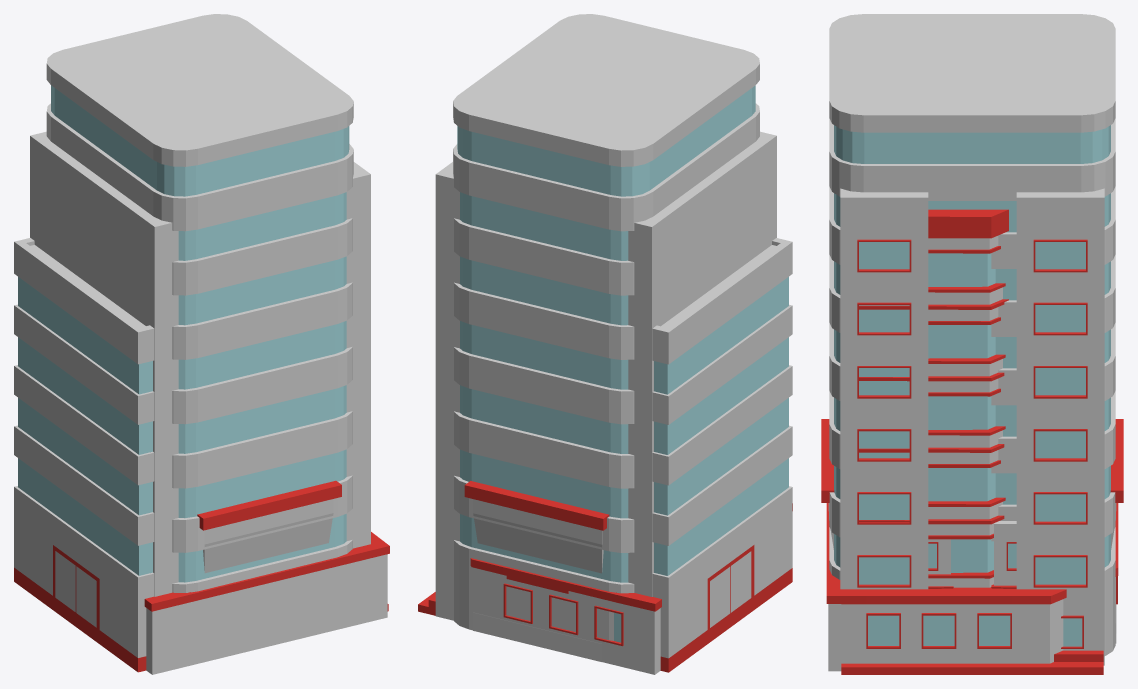
The model's file is quarter.glb.
The picture shows the model from 3 angles, left to right: view 1: azimuth 30°, elevation 25°; view 2: azimuth 150°, elevation 25°; view 3: azimuth 270°, elevation 25°; orthographic projection. The views are drawn at different scales.
Visible parts, largest first — view 1: Building 87_White_0, Building 87_Blue_0, Building 95_White_0, Building 83_White_0, Building 83_Blue_0, Building 53_White_0, Building 50_White_0, Building 53_Red_0, Building 83_Red_0, Building 50_Red_0, Building 88_White_0; view 2: Building 87_White_0, Building 87_Blue_0, Building 95_White_0, Building 83_White_0, Building 83_Blue_0, Building 50_White_0, Building 53_White_0, Building 53_Red_0, Building 83_Red_0, Building 50_Red_0, Building 88_White_0; view 3: Building 95_White_0, Building 87_White_0, Building 95_Blue_0, Building 87_Blue_0, Building 53_White_0, Building 94_Blue_0, Building 94_Red_0, Building 94_White_0, Building 95_Red_0, Building 53_Red_0, Building 88_White_0, Building 83_Red_0 (+5 smaller).
Part boxes in pixels (left/top/right/bottom): Building 87_White_0: left=46, top=14, right=353, bottom=592; Building 87_Blue_0: left=51, top=85, right=349, bottom=582; Building 95_White_0: left=30, top=131, right=370, bottom=596; Building 83_White_0: left=14, top=238, right=154, bottom=657; Building 83_Blue_0: left=18, top=277, right=152, bottom=575; Building 53_White_0: left=146, top=554, right=387, bottom=674; Building 50_White_0: left=203, top=499, right=333, bottom=573; Building 53_Red_0: left=144, top=532, right=389, bottom=611; Building 83_Red_0: left=14, top=545, right=388, bottom=672; Building 50_Red_0: left=197, top=480, right=341, bottom=530; Building 88_White_0: left=61, top=141, right=142, bottom=208; Building 87_White_0: left=453, top=14, right=759, bottom=640; Building 87_Blue_0: left=457, top=85, right=755, bottom=582; Building 95_White_0: left=435, top=131, right=776, bottom=620; Building 83_White_0: left=652, top=238, right=792, bottom=658; Building 83_Blue_0: left=654, top=277, right=788, bottom=575; Building 50_White_0: left=473, top=499, right=603, bottom=661; Building 53_White_0: left=473, top=567, right=660, bottom=674; Building 53_Red_0: left=470, top=503, right=792, bottom=646; Building 83_Red_0: left=418, top=545, right=792, bottom=672; Building 50_Red_0: left=464, top=481, right=609, bottom=530; Building 88_White_0: left=664, top=141, right=744, bottom=208; Building 95_White_0: left=840, top=188, right=1104, bottom=665; Building 87_White_0: left=829, top=14, right=1115, bottom=655; Building 95_Blue_0: left=859, top=242, right=1085, bottom=646; Building 87_Blue_0: left=834, top=125, right=1110, bottom=567; Building 53_White_0: left=828, top=577, right=1115, bottom=671; Building 94_Blue_0: left=928, top=253, right=995, bottom=572; Building 94_Red_0: left=859, top=209, right=1008, bottom=578; Building 94_White_0: left=928, top=236, right=1002, bottom=587; Building 95_Red_0: left=857, top=239, right=1087, bottom=648; Building 53_Red_0: left=826, top=503, right=1118, bottom=648; Building 88_White_0: left=887, top=183, right=1057, bottom=541; Building 83_Red_0: left=841, top=650, right=1103, bottom=674.
Bounding box in the file's own units: 2.51 × 4.93 × 2.47.
